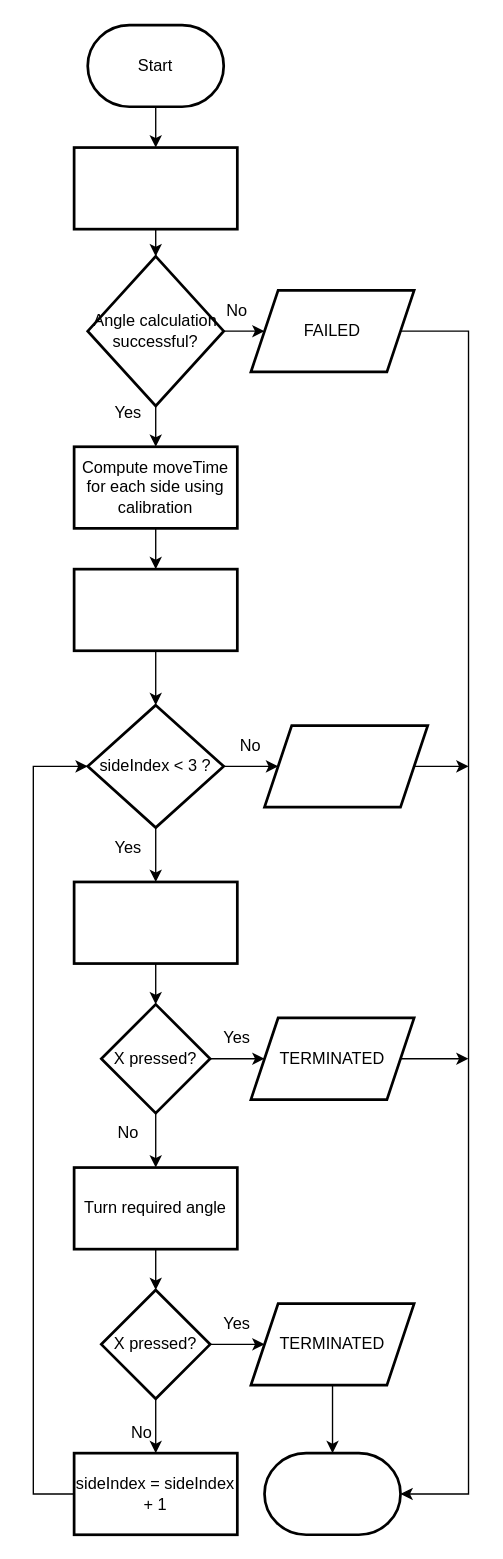
This 503x1559 diagram has some shape labels left out. The shapes that lost their labels are listed below. From the top down, each one's centre as x and y in pixels, then its label:
pixel 155 188: Compute internal angles from sides
pixel 155 609: sideIndex = 0
pixel 345 766: SUCCESS
pixel 155 922: Move forward side[sideIndex]
pixel 331 1493: End
